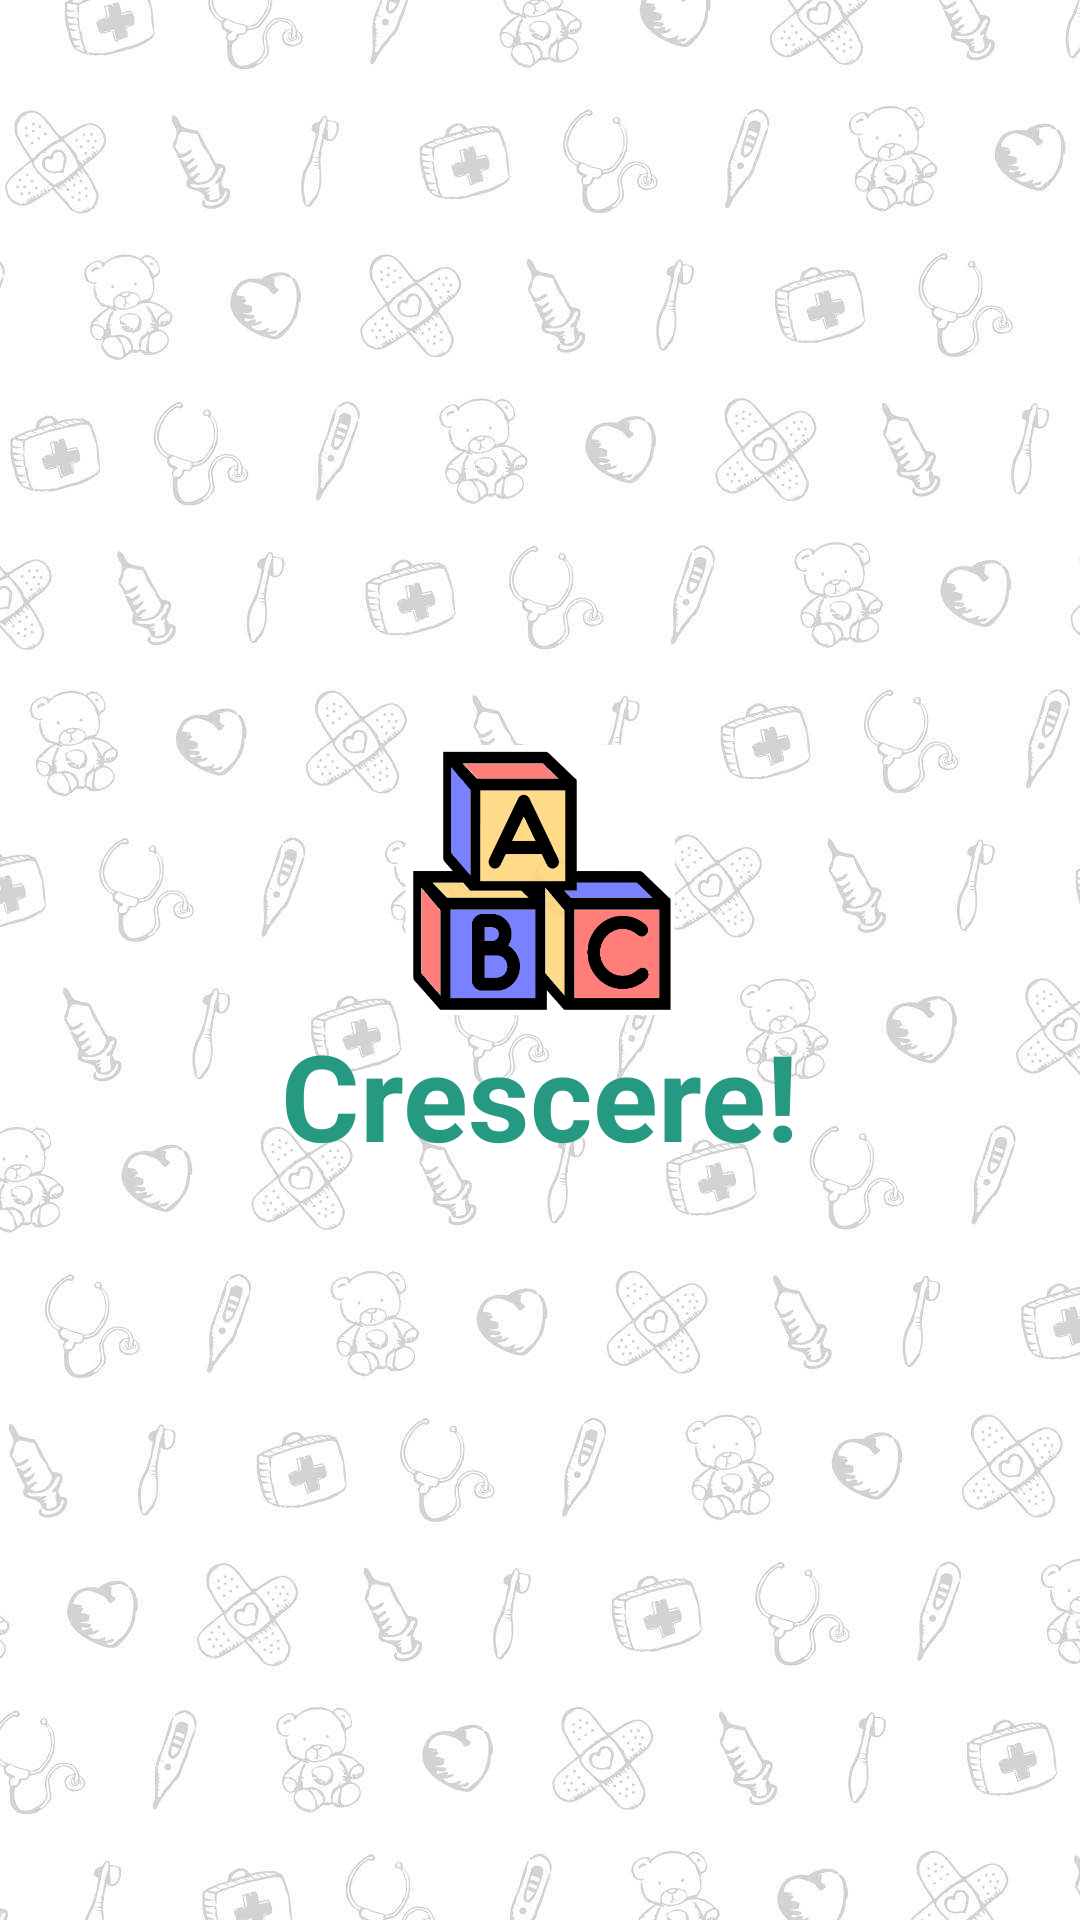

Icons on this 1080w x 1920h Android screen, each with its box as {"x1": x1, "y1": y1, "x2": x2, "y2": y2}:
baby: {"x1": 405, "y1": 751, "x2": 671, "y2": 1010}
